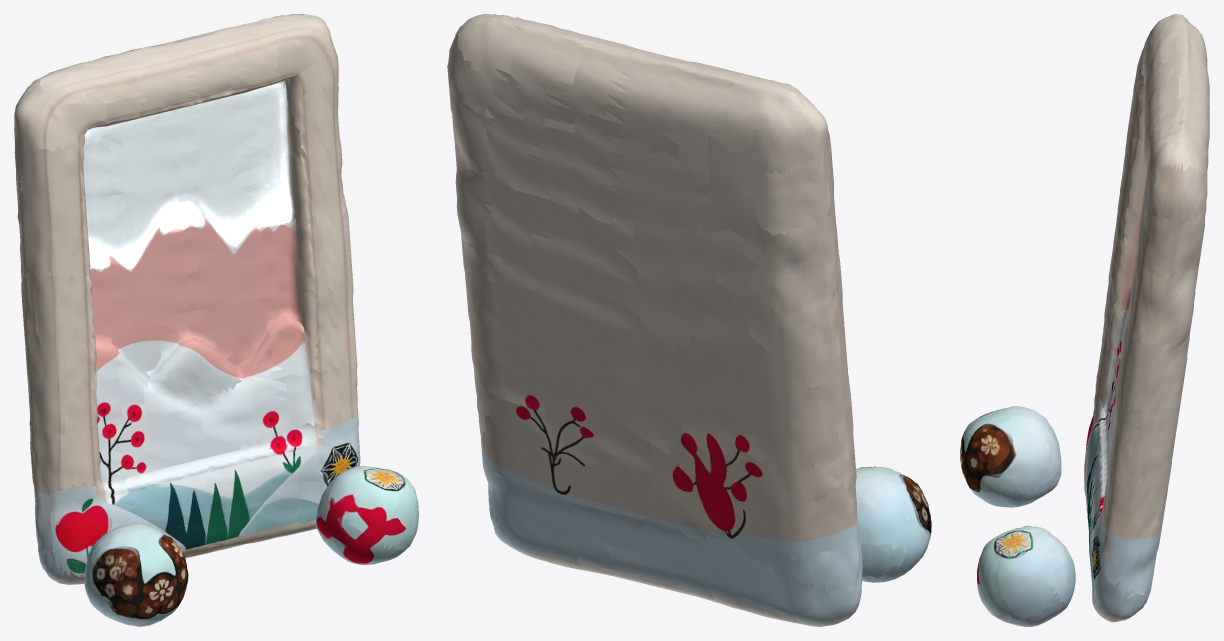
The model's file is hub_poster_stand.glb.
3 views of the same model, side by side, from view 1: azimuth 30°, elevation 25°; view 2: azimuth 150°, elevation 25°; view 3: azimuth 270°, elevation 25° (orthographic). The views are drawn at different scales.
Size of the model in its own units: 1.34 by 1.91 by 0.8806.
1 material, 1 textured.
